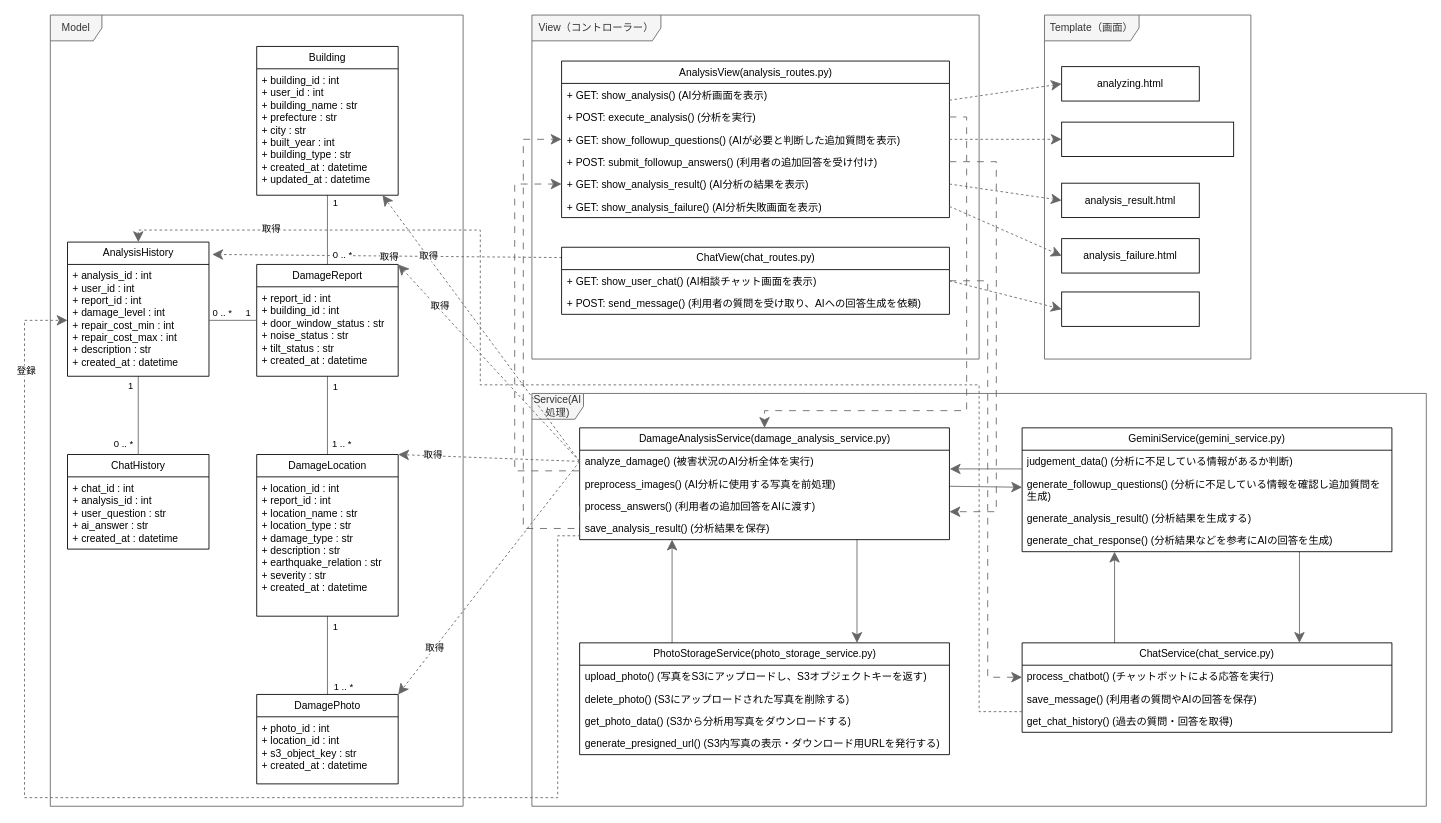
Image size: 1441x823. Some labels were removed from this diagram. The centre of each missing label's shape, as x and y in pixels:
analysis_additional_chat.html: the point at 1147,139
analysis_user_chat.html: the point at 1130,308
